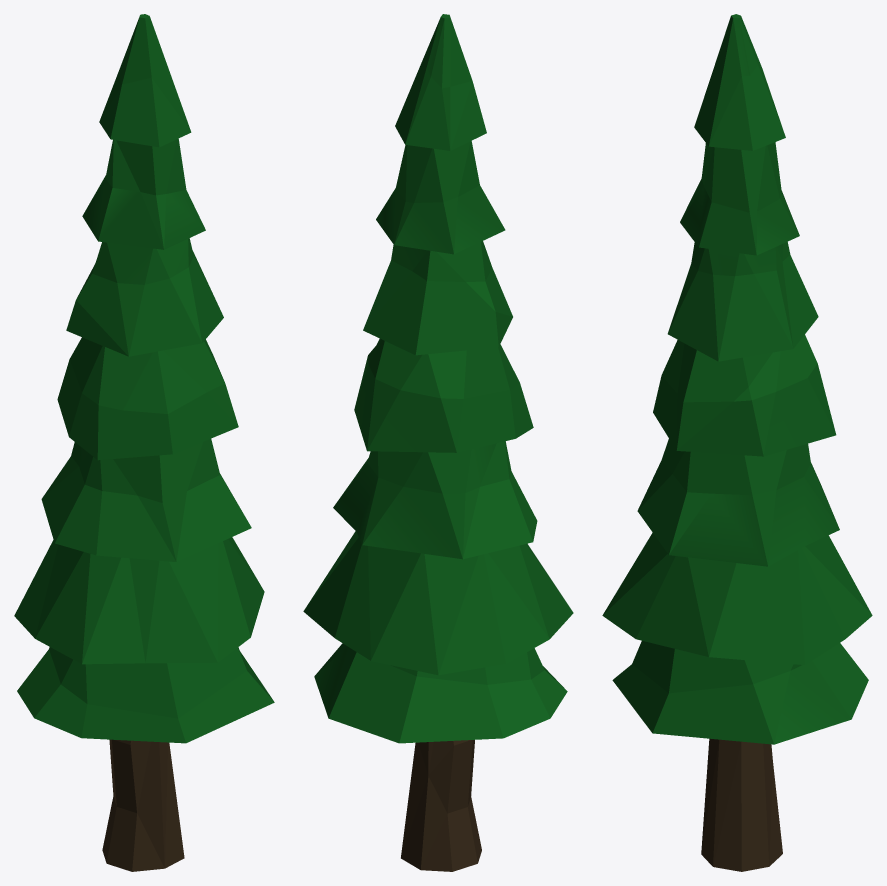
File: PineTree.fbx
3 views of the same model, side by side, from view 1: azimuth 30°, elevation 25°; view 2: azimuth 150°, elevation 25°; view 3: azimuth 270°, elevation 25° (orthographic).
Visible parts, largest first — view 1: w; view 2: w; view 3: w.
Part boxes in pixels (left/top/right/bottom): w: left=14, top=14, right=274, bottom=871; w: left=303, top=14, right=573, bottom=871; w: left=602, top=14, right=872, bottom=871.
Size of the model in its own units: 80.18 by 292 by 85.51.
